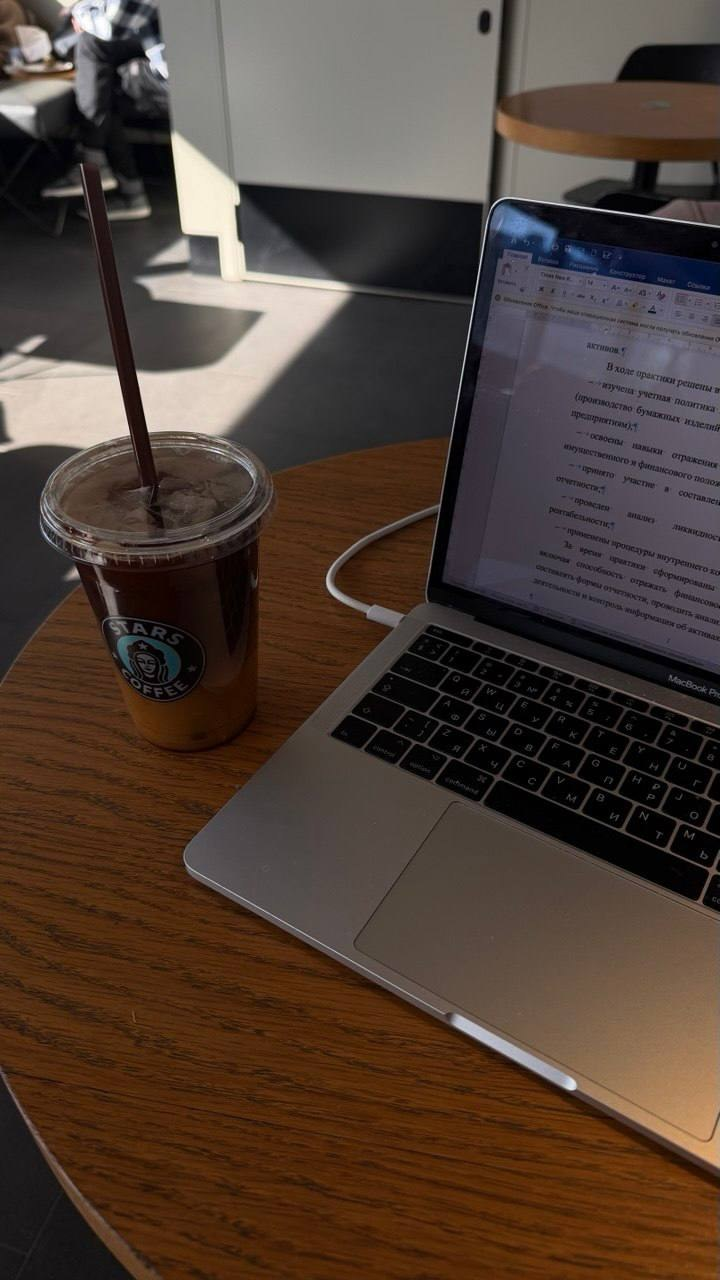laptop: (182, 195, 719, 1178)
